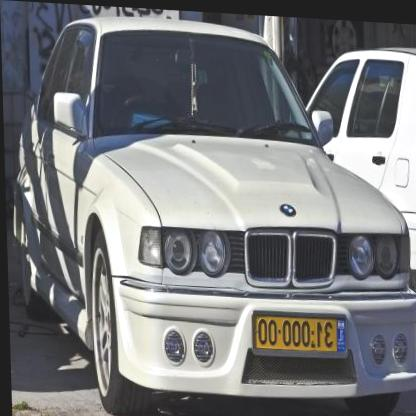License_Plate: (250, 310, 348, 361)
